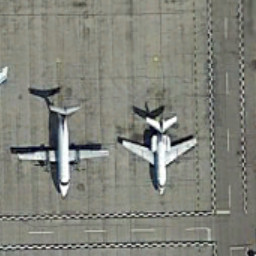Airplane: (10, 96, 112, 203), (116, 105, 201, 201)
